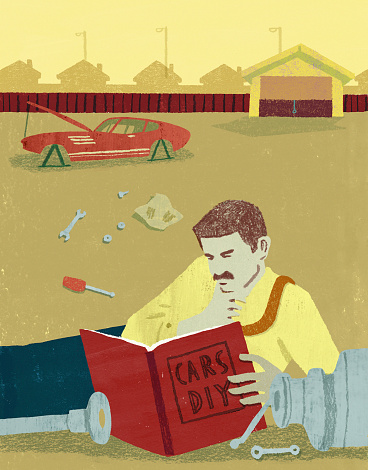deitado: (189, 195, 359, 449)
